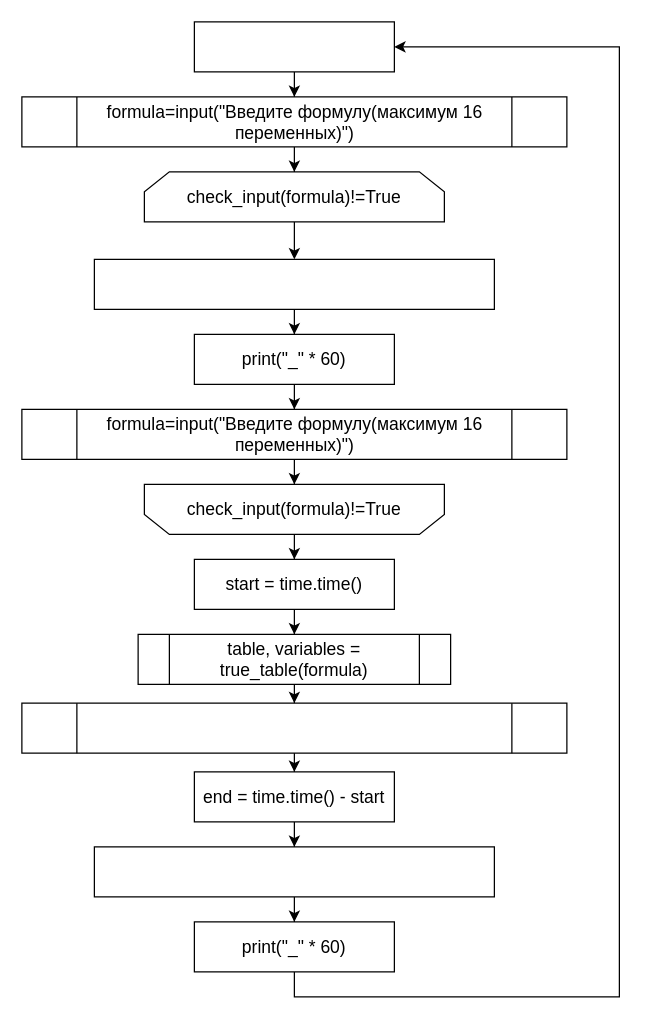
This 651x1029 diagram has some shape labels left out. The centre of each missing label's shape, as x and y in pixels:
main(): point 293,46
print("\nПолученная СКНФ: + create_sknf(table, variables)): point 294,727
print("Время выполнения" + str(end) + "c\n"): point 293,871
print("Неправильный ввод, попробуйте снова"): point 293,283
